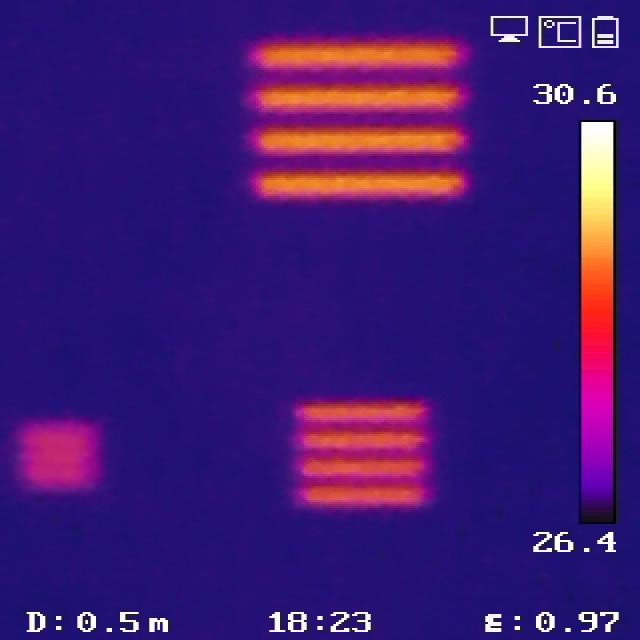Distinguishable 4-bar target: (239, 33, 473, 204), (286, 396, 434, 509)
Indistinguishable 4-bar target: (16, 413, 101, 490)
